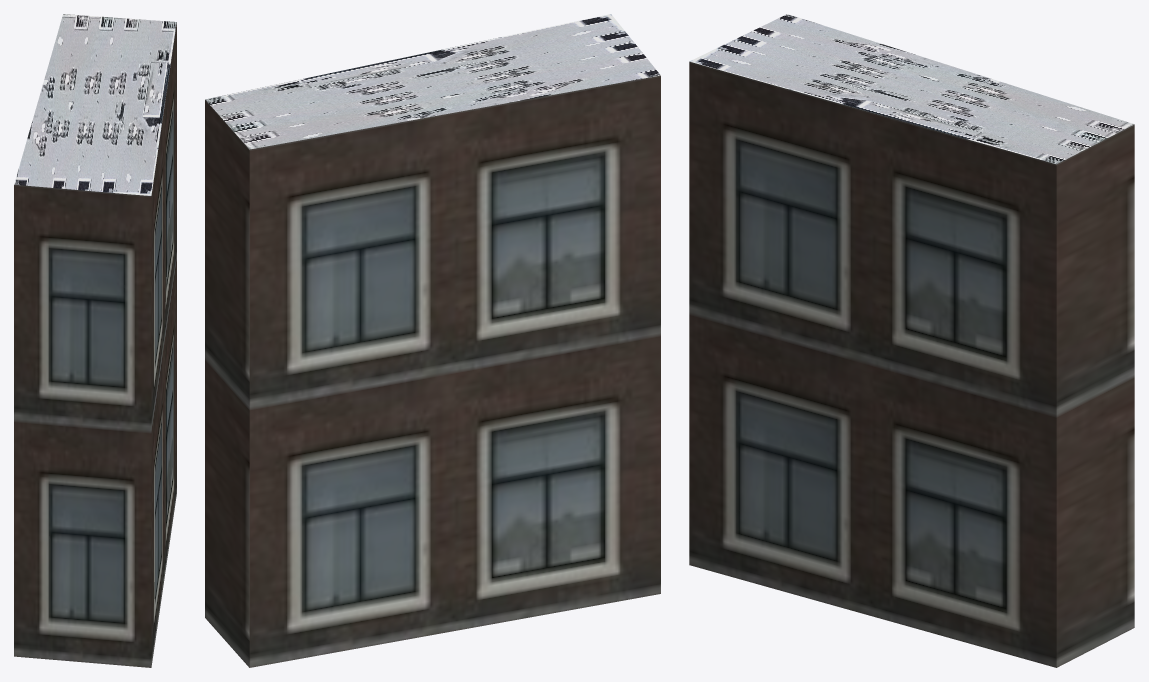
The model's file is ResTex__614.fbx.
The picture shows the model from 3 angles, left to right: view 1: azimuth 30°, elevation 25°; view 2: azimuth 150°, elevation 25°; view 3: azimuth 270°, elevation 25°; orthographic projection. The views are drawn at different scales.
Visible parts, largest first — view 1: CityEngineMaterial_16_m, CityEngineMaterial_15_m; view 2: CityEngineMaterial_16_m, CityEngineMaterial_15_m; view 3: CityEngineMaterial_16_m, CityEngineMaterial_15_m.
Part boxes in pixels (x1,y1,x2,y2): CityEngineMaterial_16_m: [14, 22, 176, 667]; CityEngineMaterial_15_m: [14, 14, 176, 195]; CityEngineMaterial_16_m: [205, 75, 660, 667]; CityEngineMaterial_15_m: [205, 14, 660, 149]; CityEngineMaterial_16_m: [689, 61, 1134, 667]; CityEngineMaterial_15_m: [689, 14, 1134, 164].
Bounding box in the file's own units: 3.84 × 6 × 4.81.
Materials: 2 (2 with a texture image).
